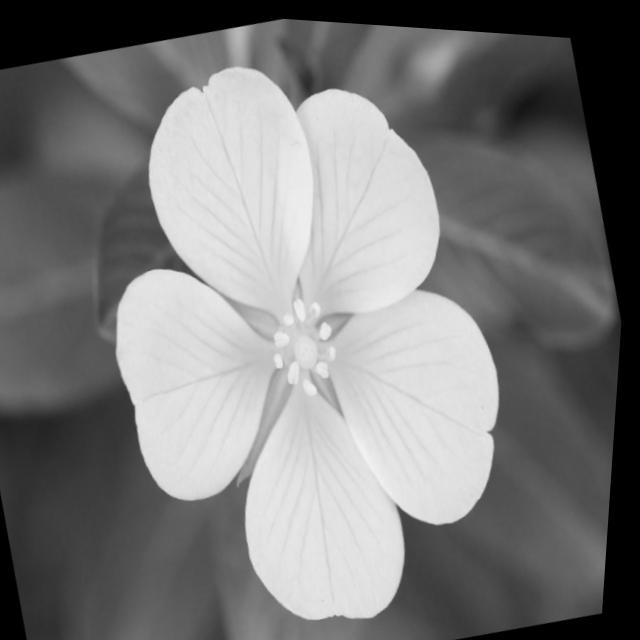Flower: (44, 4, 573, 640)
